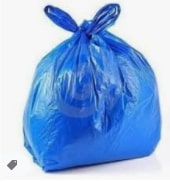kantong: (22, 2, 162, 174)
